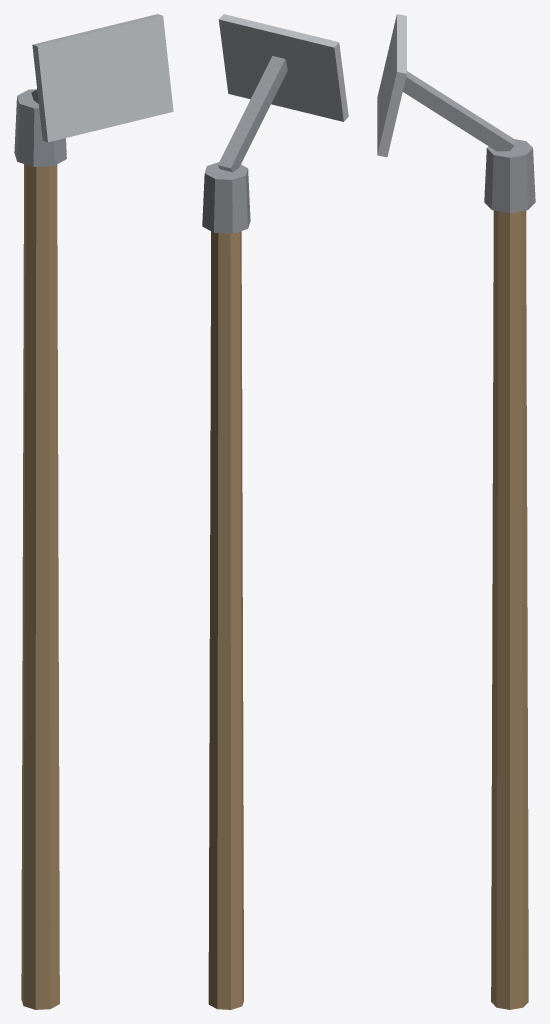
The model's file is FarmHoe.fbx.
3 views of the same model, side by side, from view 1: azimuth 30°, elevation 25°; view 2: azimuth 150°, elevation 25°; view 3: azimuth 270°, elevation 25° (orthographic). The views are drawn at different scales.
Visible parts, largest first — view 1: Tool_Hoe; view 2: Tool_Hoe; view 3: Tool_Hoe.
Boxes of the visible parts, box(x1,y1,x2,y2) form: Tool_Hoe: box(14, 14, 173, 1009); Tool_Hoe: box(202, 14, 348, 1009); Tool_Hoe: box(377, 14, 535, 1009).
Bounding box in the file's own units: 16 × 124 × 18.48.
